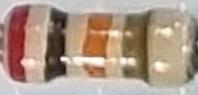Black: (42, 7, 68, 85)
Orange: (83, 13, 113, 77)
Red: (7, 2, 30, 83)
Side-Gold: (122, 8, 153, 85)
